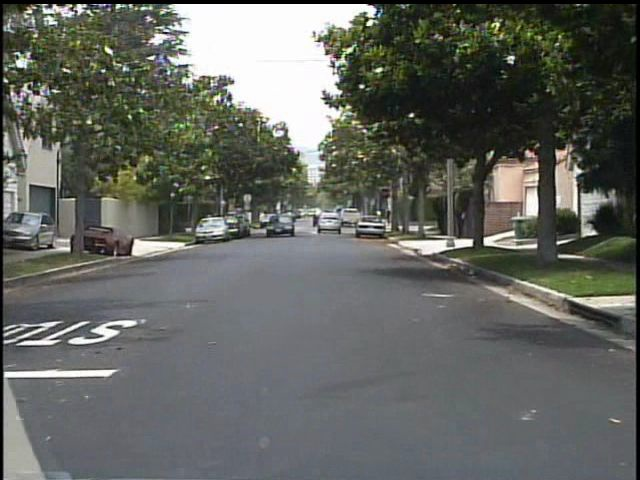person: (453, 199, 471, 243), (202, 208, 216, 233)
